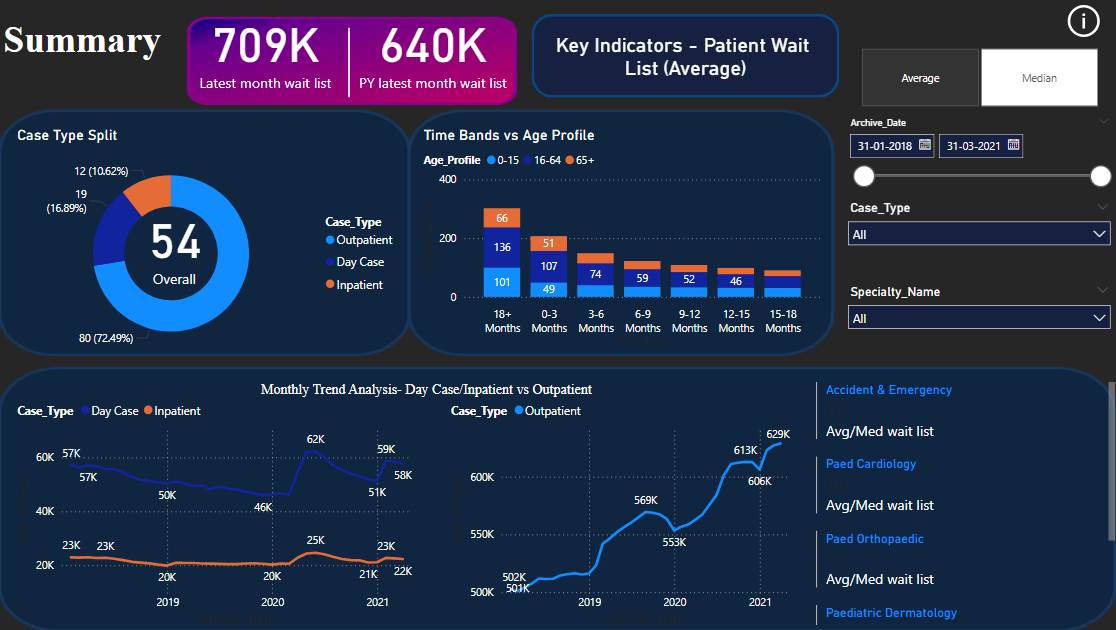

Layout of this report page (visuals, bound fields, positions):
{"tool":"powerbi","page":{"name":"Summary","canvas":[1280,720],"ordinal":0},"visuals":[{"type":"card","fields":{"Values":["All_data.Latest month wait list"]},"box":[208,0,192,112],"z":0},{"type":"card","fields":{"Values":["All_data.PY latest month wait list"]},"box":[400,0,192,112],"z":1000},{"type":"donutChart","title":"Case Type Split ","fields":{"Category":["All_data.Case_Type"],"Y":["All_data.Avg/Med wait list"]},"box":[16,144,448,272],"z":2000},{"type":"columnChart","title":"Time Bands vs Age Profile","fields":{"Y":["All_data.Avg/Med wait list"],"Series":["All_data.Age_Profile"],"Category":["All_data.Time_Bands"]},"box":[480,144,464,256],"z":3000},{"type":"multiRowCard","fields":{"Values":["All_data.Specialty_Name","All_data.Avg/Med wait list"]},"box":[928,432,352,288],"z":4000},{"type":"lineChart","fields":{"Category":["All_data.Archive_Date"],"Y":["Sum(All_data.Total)"],"Series":["All_data.Case_Type"]},"box":[16,448,464,272],"z":5000},{"type":"lineChart","fields":{"Category":["All_data.Archive_Date"],"Y":["Sum(All_data.Total)"],"Series":["All_data.Case_Type"]},"box":[512,448,400,272],"z":6000},{"type":"slicer","fields":{"Values":["All_data.Archive_Date"]},"box":[960,128,320,112],"z":7000},{"type":"slicer","fields":{"Values":["All_data.Specialty_Name"]},"box":[960,320,320,96],"z":8000},{"type":"slicer","fields":{"Values":["All_data.Case_Type"]},"box":[960,224,320,80],"z":9000},{"type":"shape","box":[608,16,352,96],"z":10000},{"type":"textbox","box":[0,16,208,96],"z":11000},{"type":"slicer","fields":{"Values":["Table.Calc Method"]},"box":[960,48,320,80],"z":12000},{"type":"card","fields":{"Values":["All_data.Avg/Med wait list"]},"box":[128,224,144,112],"z":13000},{"type":"shape","box":[240,32,320,80],"z":14000},{"type":"textbox","box":[224,432,528,32],"z":15000},{"type":"card","fields":{"Values":["All_data.Dynamic Title"]},"box":[608,16,352,96],"z":16000},{"type":"actionButton","box":[1216,0,64,48],"z":17000}]}

Visuals, with their boxes in screenshot pixels (x1, y1, x2, y2), scaled from the page's 1280x720 canvas onto the 1116x630 screenshot:
card - All_data.Latest month wait list: x1=181 y1=0 x2=349 y2=98
card - All_data.PY latest month wait list: x1=349 y1=0 x2=516 y2=98
"Case Type Split " donutChart: x1=14 y1=126 x2=405 y2=364
"Time Bands vs Age Profile" columnChart: x1=418 y1=126 x2=823 y2=350
multiRowCard - All_data.Specialty_Name x All_data.Avg/Med wait list: x1=809 y1=378 x2=1115 y2=629
lineChart - All_data.Archive_Date x Sum(All_data.Total): x1=14 y1=392 x2=418 y2=629
lineChart - All_data.Archive_Date x Sum(All_data.Total): x1=446 y1=392 x2=795 y2=629
slicer - All_data.Archive_Date: x1=837 y1=112 x2=1115 y2=210
slicer - All_data.Specialty_Name: x1=837 y1=280 x2=1115 y2=364
slicer - All_data.Case_Type: x1=837 y1=196 x2=1115 y2=266
shape: x1=530 y1=14 x2=837 y2=98
textbox: x1=0 y1=14 x2=181 y2=98
slicer - Table.Calc Method: x1=837 y1=42 x2=1115 y2=112
card - All_data.Avg/Med wait list: x1=112 y1=196 x2=237 y2=294
shape: x1=209 y1=28 x2=488 y2=98
textbox: x1=195 y1=378 x2=656 y2=406
card - All_data.Dynamic Title: x1=530 y1=14 x2=837 y2=98
actionButton: x1=1060 y1=0 x2=1115 y2=42
